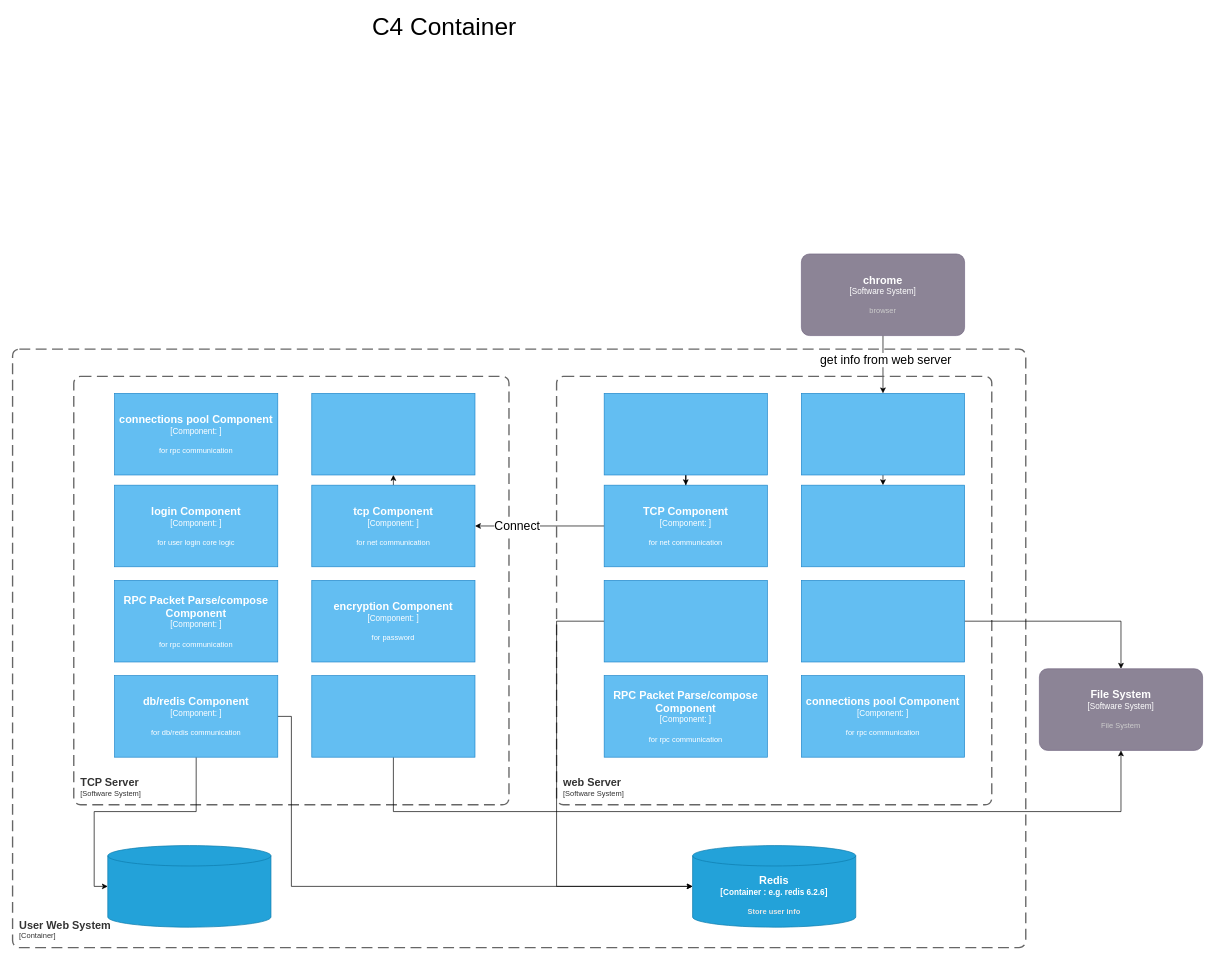
The diagram is 1214 pixels wide and 960 high, and some of its shapes have lost their labels. Here are the shapes that lost their labels. From the top down, the centre of each, then its label:
At (393,434): "RPC server Component [Component: ] for rpc communication".
At (685,434): "RPC client Component [Component: ] for rpc communication".
At (883,434): "http Component [Component: ] for user login core logic".
At (883,526): "routing Component [Component: ] for user login core logic".
At (685,621): "redis Component [Component: ] for redis communication".
At (883,621): "get image Component [Component: ] for upload image".
At (393,716): "image Component [Component: ] for upload image".
At (189,886): "Mysql [Container : e.g. mysql Database 8.0.28] Store user info".
